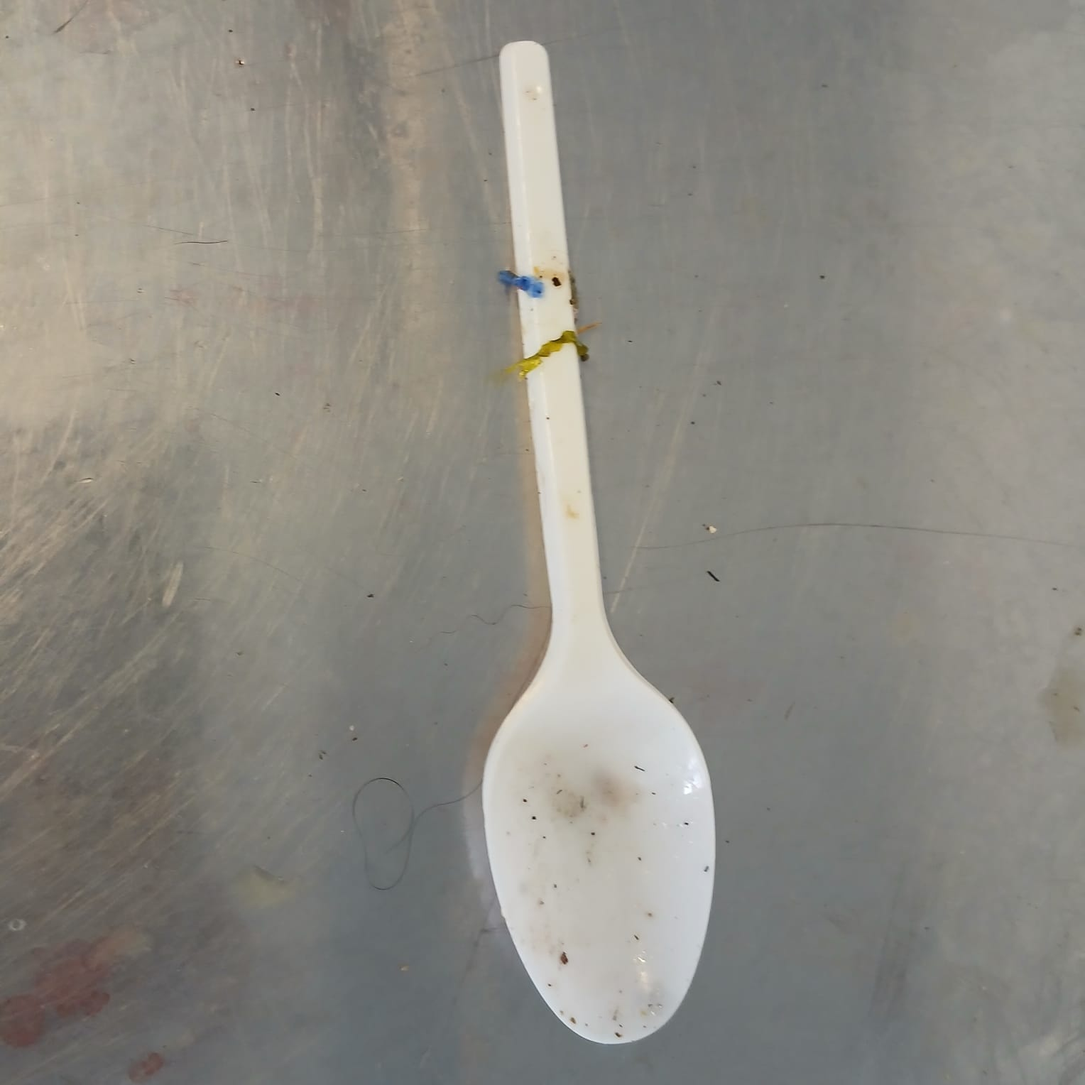Ordinario: (480, 39, 719, 1049)
